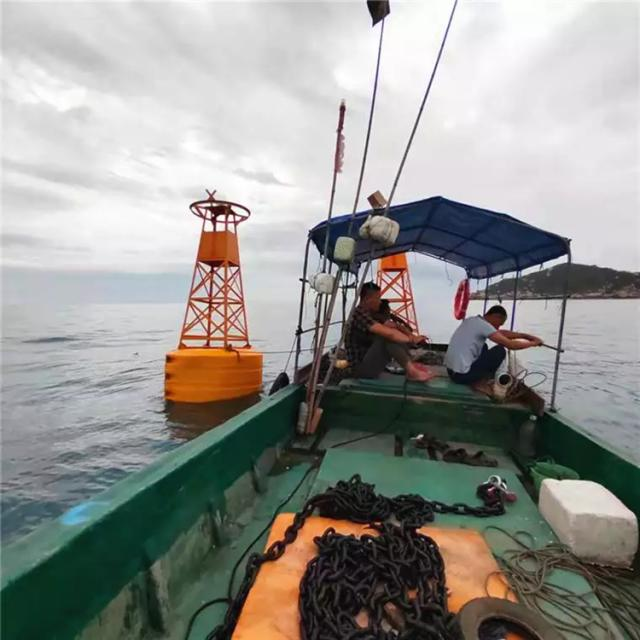buoy: (163, 187, 273, 406)
